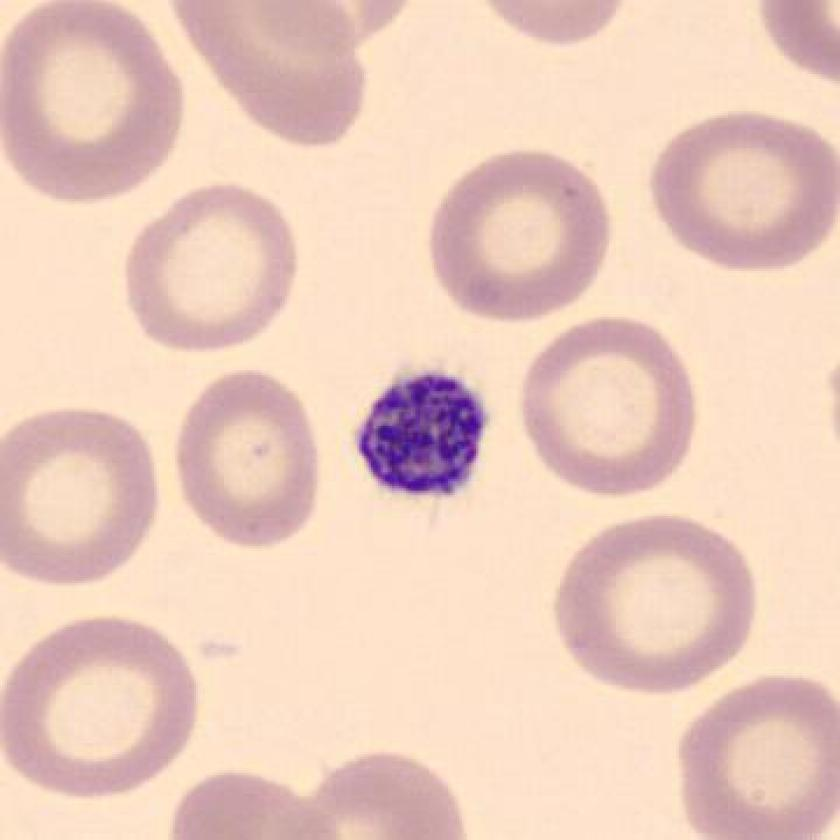platelets: (349, 358, 498, 513)
